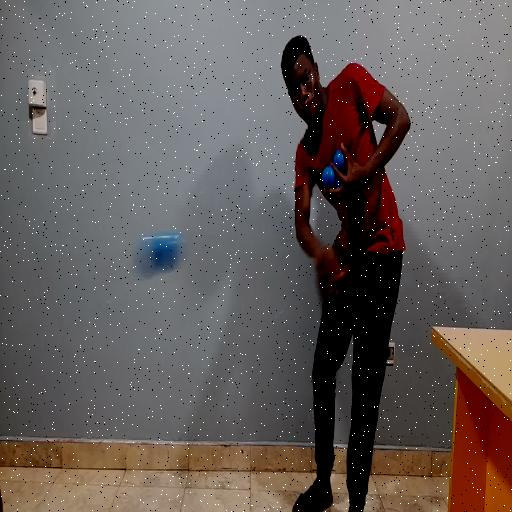plastic-ball: (133, 225, 185, 283)
